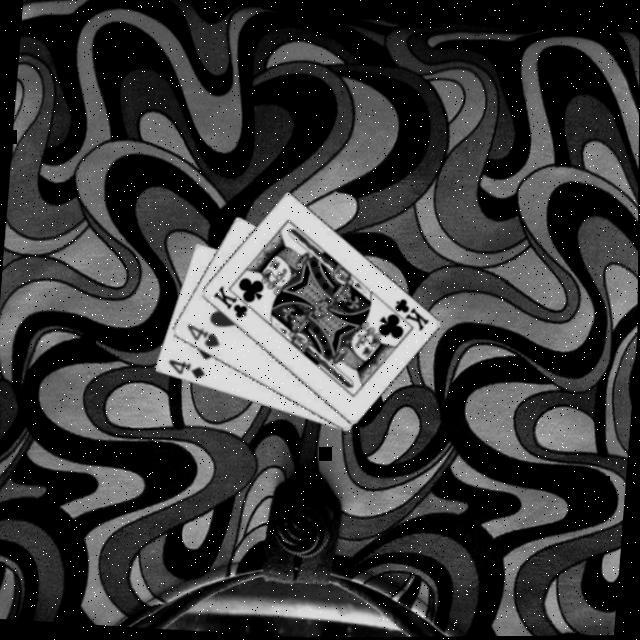4D: (165, 356, 209, 383)
4H: (183, 321, 224, 352)
KC: (382, 294, 434, 335), (209, 283, 260, 322)
